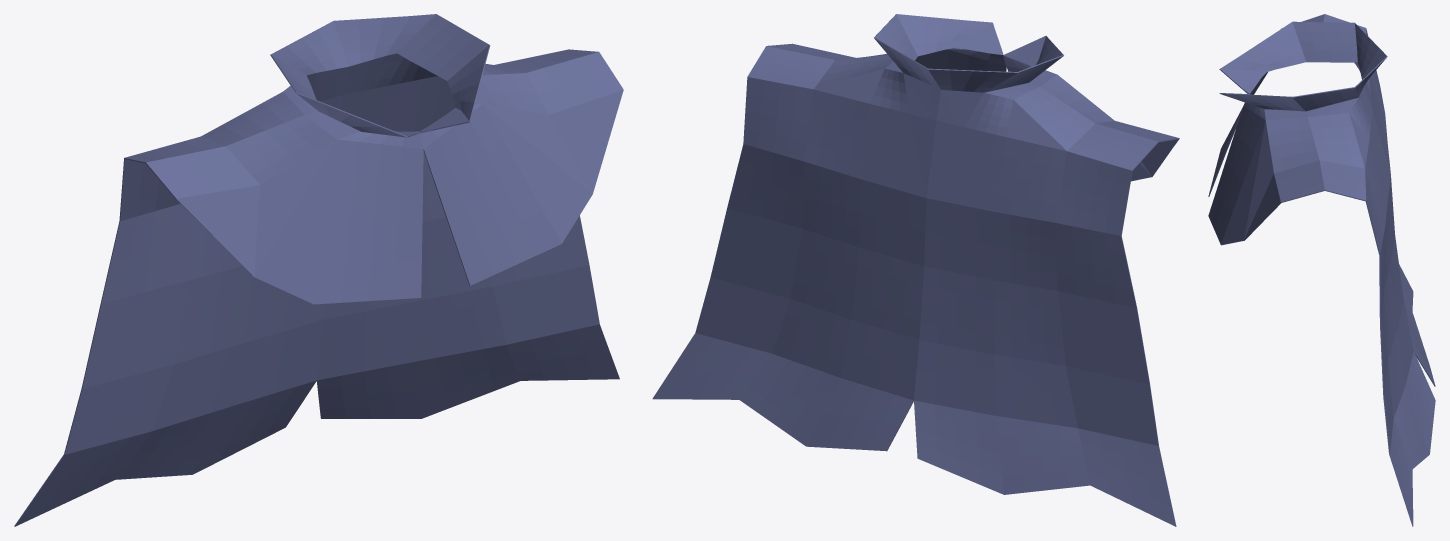
File: cloak.fbx
The picture shows the model from 3 angles, left to right: view 1: azimuth 30°, elevation 25°; view 2: azimuth 150°, elevation 25°; view 3: azimuth 270°, elevation 25°; orthographic projection. The views are drawn at different scales.
Parts seen in each view (by area): view 1: MelonCloak0; view 2: MelonCloak0; view 3: MelonCloak0.
Boxes of the visible parts, left/top/right/bottom form: MelonCloak0: left=14, top=14, right=623, bottom=526; MelonCloak0: left=652, top=14, right=1179, bottom=526; MelonCloak0: left=1208, top=14, right=1435, bottom=526.
Size of the model in its own units: 0.5981 by 0.4219 by 0.2444.
